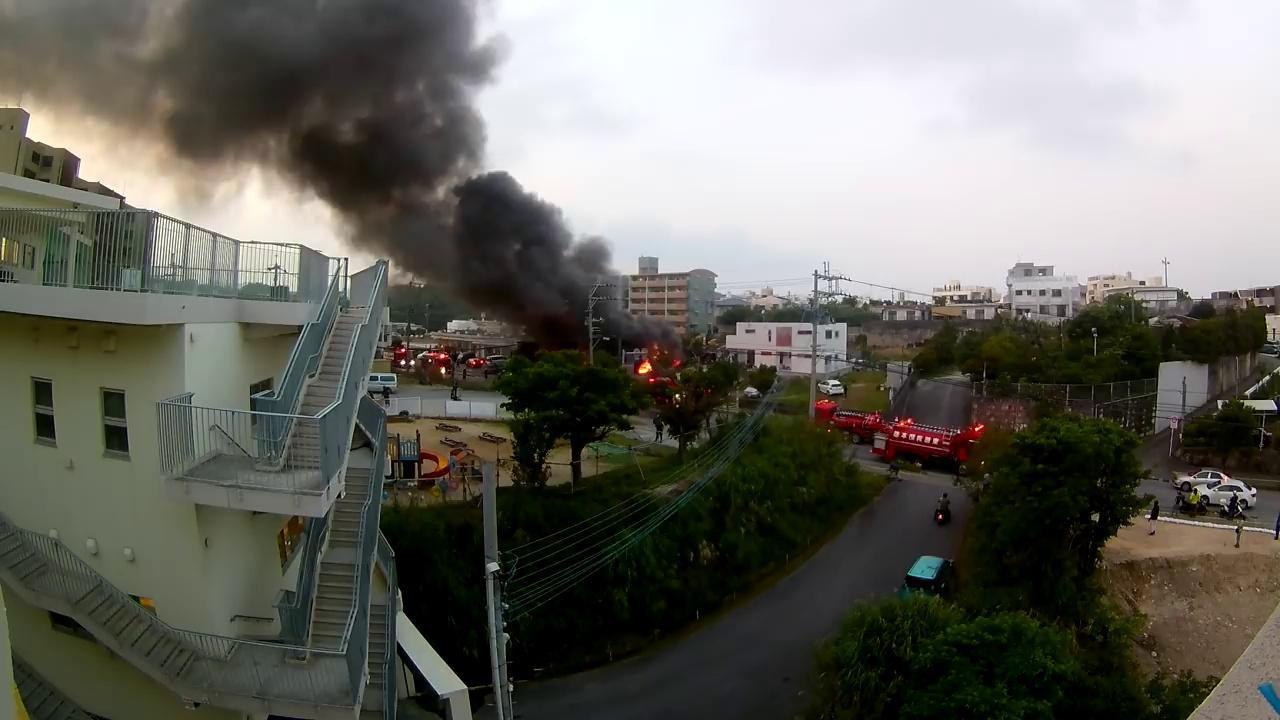Fire: (636, 361, 656, 375)
